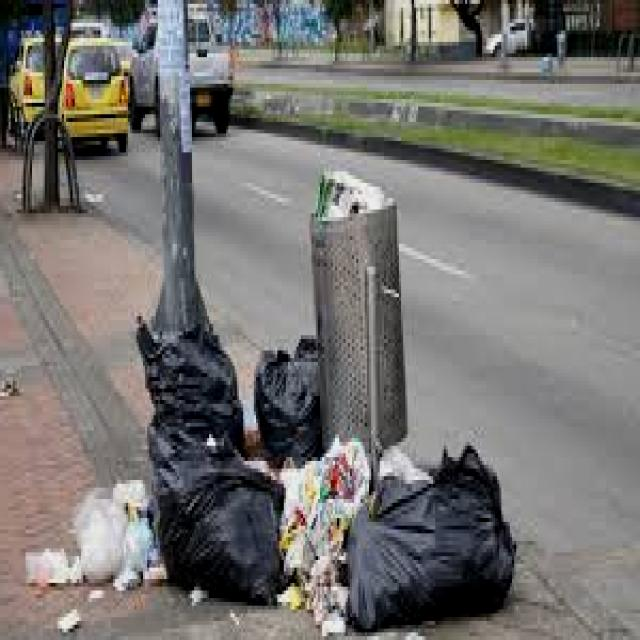garbage: (51, 168, 532, 616)
